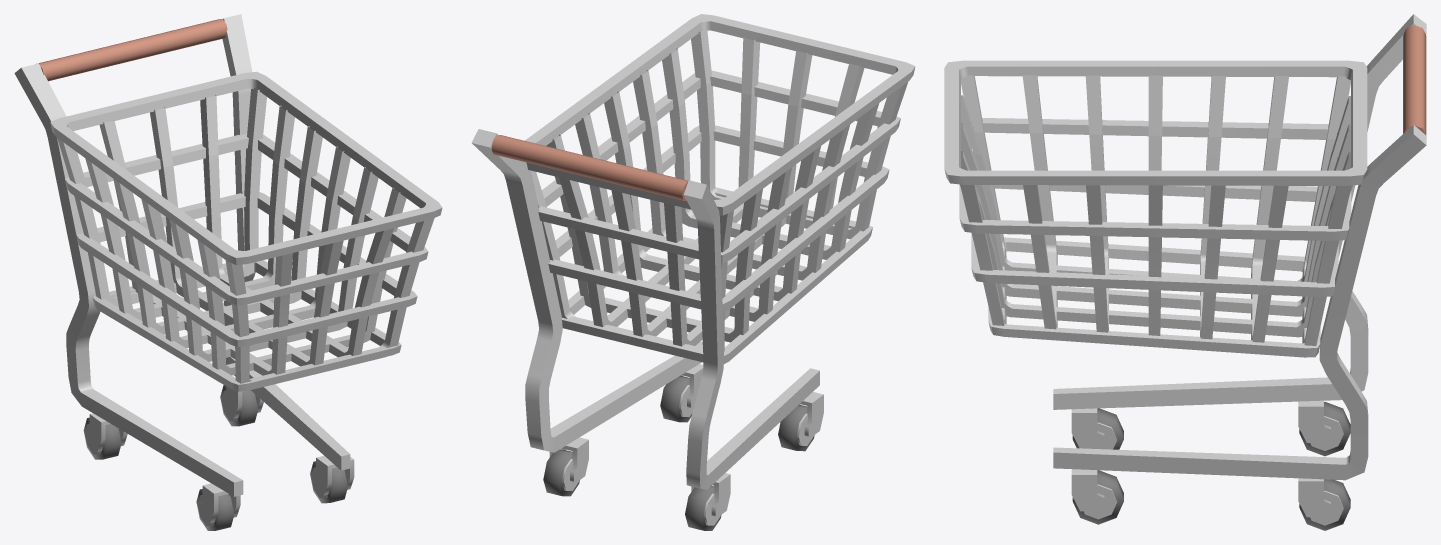
The model's file is trolley.fbx.
The picture shows the model from 3 angles, left to right: view 1: azimuth 30°, elevation 25°; view 2: azimuth 150°, elevation 25°; view 3: azimuth 270°, elevation 25°; orthographic projection. The views are drawn at different scales.
Parts seen in each view (by area): view 1: basket, handle, RF_Wheel, LF_Wheel, RR_Wheel, FR_Rubber, LR_Rubber, RR_Rubber, FL_Rubber, LR_Wheel; view 2: basket, handle, LR_Rubber, FL_Rubber, RR_Rubber, FR_Rubber, LR_Wheel, RF_Wheel, RR_Wheel; view 3: basket, handle, LF_Wheel, RR_Wheel, RF_Wheel, LR_Wheel, FL_Rubber, RR_Rubber, LR_Rubber, FR_Rubber.
Part boxes in pixels (x1,y1,x2,y2): basket: [14, 14, 442, 496]; handle: [36, 19, 227, 81]; RF_Wheel: [199, 483, 240, 523]; LF_Wheel: [313, 455, 354, 495]; RR_Wheel: [86, 413, 127, 451]; FR_Rubber: [196, 489, 234, 530]; LR_Rubber: [220, 385, 257, 426]; RR_Rubber: [83, 417, 121, 459]; FL_Rubber: [310, 461, 347, 503]; LR_Wheel: [223, 386, 263, 418]; basket: [471, 14, 915, 489]; handle: [491, 135, 688, 200]; LR_Rubber: [543, 449, 579, 496]; FL_Rubber: [660, 375, 692, 422]; RR_Rubber: [685, 485, 721, 530]; FR_Rubber: [778, 404, 814, 451]; LR_Wheel: [549, 437, 588, 481]; RF_Wheel: [799, 392, 823, 436]; RR_Wheel: [691, 473, 730, 516]; basket: [944, 14, 1426, 480]; handle: [1403, 25, 1426, 134]; LF_Wheel: [1071, 469, 1104, 511]; RR_Wheel: [1298, 400, 1330, 442]; RF_Wheel: [1071, 408, 1104, 448]; LR_Wheel: [1298, 478, 1330, 517]; FL_Rubber: [1072, 470, 1123, 524]; RR_Rubber: [1299, 402, 1350, 456]; LR_Rubber: [1299, 479, 1350, 530]; FR_Rubber: [1072, 408, 1123, 449].
Bounding box in the file's own units: 87.19 × 139 × 146.
